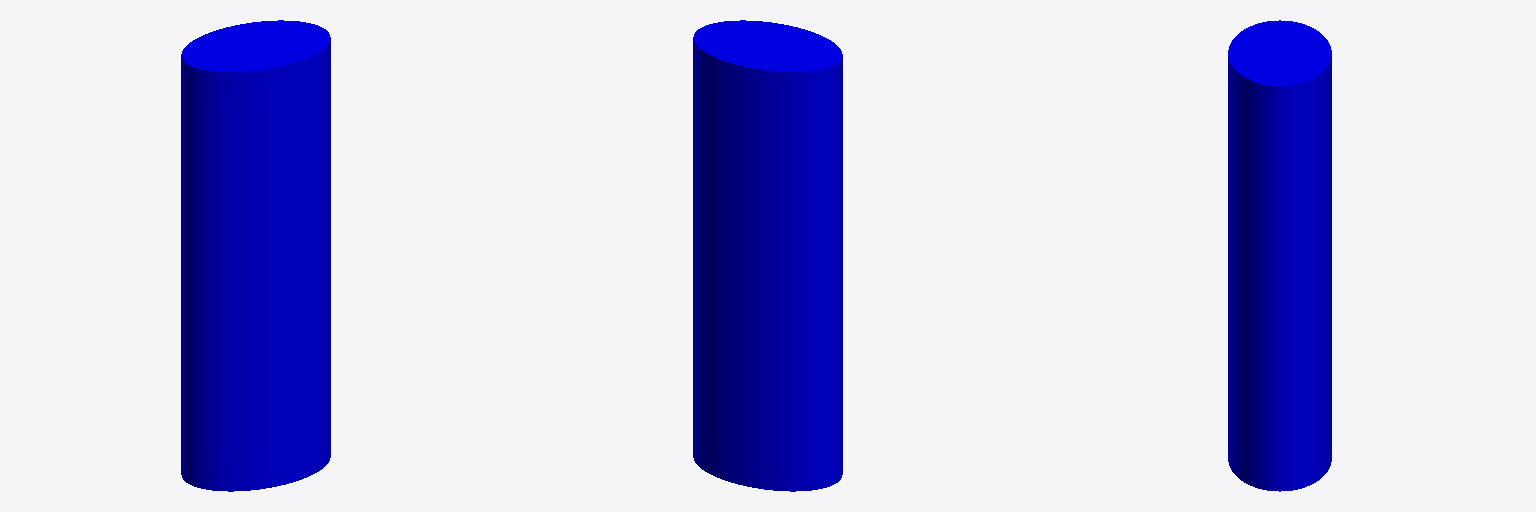
The robot description file, URDF, robot "board3_block7":
<?xml version="1.0"?>
<robot name="board3_block7">
    <link name="board3_block7">
        <visual>
            <origin xyz="0 0 0 " rpy=" 0 0 0"/>
            <geometry>
                <mesh filename="../meshes/SIMO_Board3_Block7.stl" scale="0.001 0.001 0.001"/>
            </geometry>
            <material name="red">
                <color rgba="0.0 0.0 1.0 1.0"/>
            </material>
        </visual>
        <collision>
            <origin xyz="0 0 0" rpy="0 0 0"/>
            <geometry>
                <mesh filename="../meshes/SIMO_Board3_Block7.stl" scale="0.001 0.001 0.001"/>
            </geometry>
        </collision>
    </link>
</robot>

--- What the picture shows (computed from the rendered views, not written in the file) ---
3 views of the same robot in one strip: view 1: azimuth 30°, elevation 25°; view 2: azimuth 150°, elevation 25°; view 3: azimuth 270°, elevation 25° (orthographic).
Model board3_block7 with 1 links and 0 joints (none), rooted at board3_block7, posed every joint at zero.
Visible links, largest first — view 1: board3_block7; view 2: board3_block7; view 3: board3_block7.
Link boxes in pixels (<box>): board3_block7: <box>181,20,330,491</box>; board3_block7: <box>693,20,842,491</box>; board3_block7: <box>1228,20,1331,491</box>.
Size in the robot's own frame: 0.0347 by 0.0232 by 0.1 metres.
1 mesh visuals loaded from 1 distinct referenced files (1 ASCII STL).
